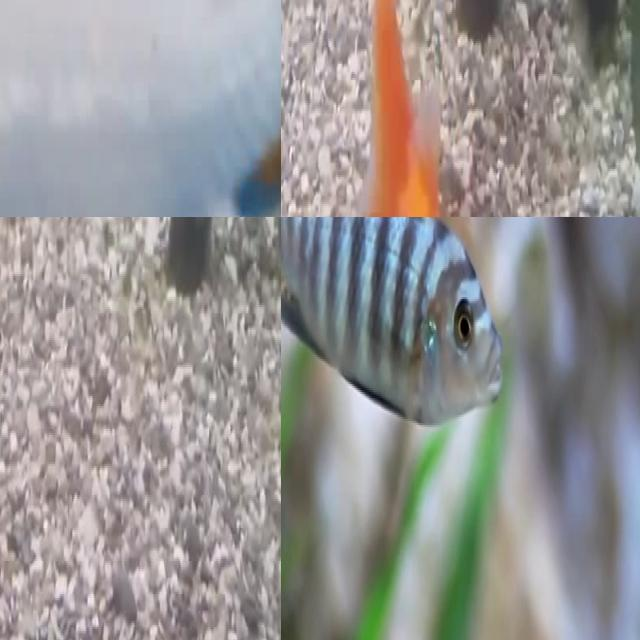fish: (0, 0, 281, 217), (310, 0, 486, 217)
